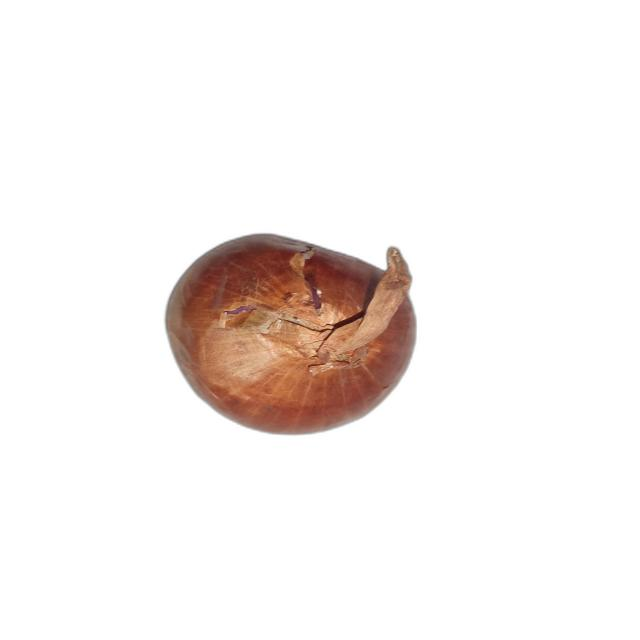onion: (165, 233, 419, 435)
